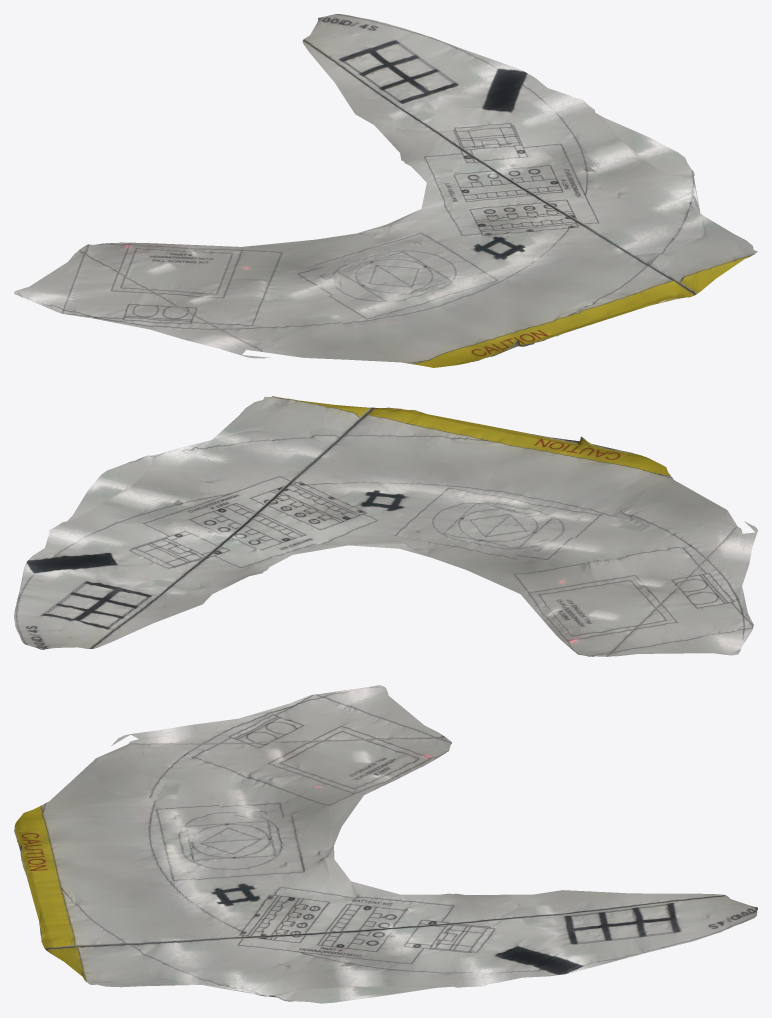
The model's file is Scaniverse_2026_09_22_183745.obj.
3 views of the same model, one above another, from view 1: azimuth 30°, elevation 25°; view 2: azimuth 150°, elevation 25°; view 3: azimuth 270°, elevation 25° (orthographic). The views are drawn at different scales.
Visible parts, largest first — view 1: mesh; view 2: mesh; view 3: mesh.
Boxes of the visible parts, x1,y1,x2,y2 form: mesh: (14,14,757,367); mesh: (14,396,757,656); mesh: (14,685,757,1003).
Size of the model in its own units: 1.19 by 0.0501 by 1.17.
1 material, 1 textured.
